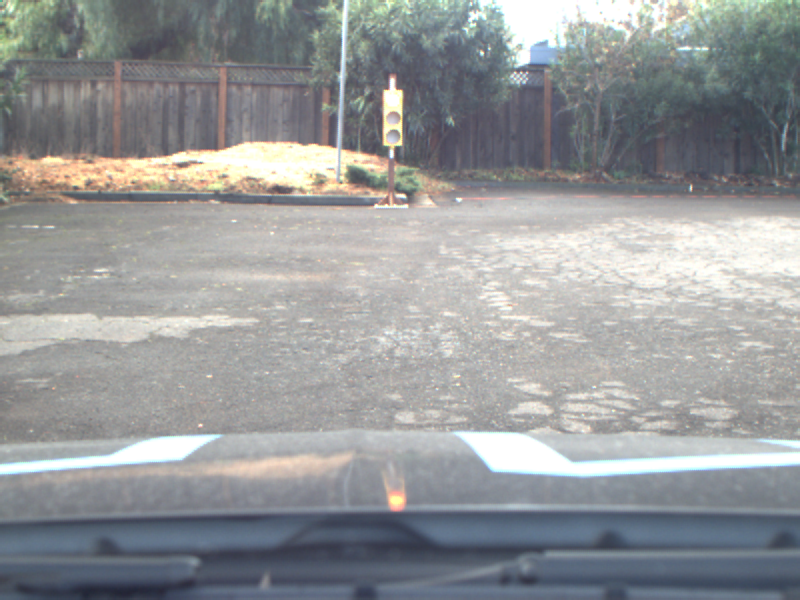Red: (383, 89, 402, 148)
